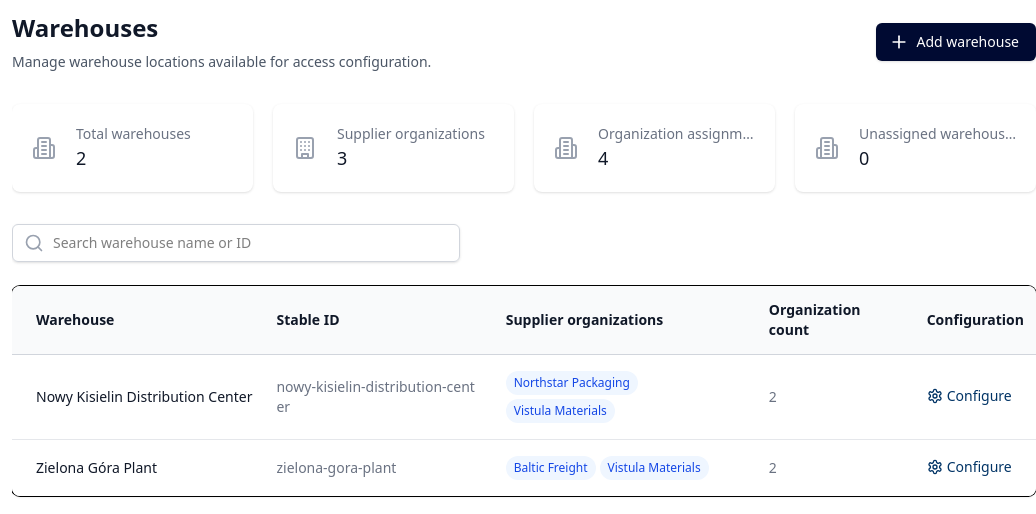
Test: WarehousesPage › 8. searches by display name and removes the nonmatching record;
In the field labelled "Search warehouse name or ID": (236, 243) [12,224,460,262], type "Nowy"
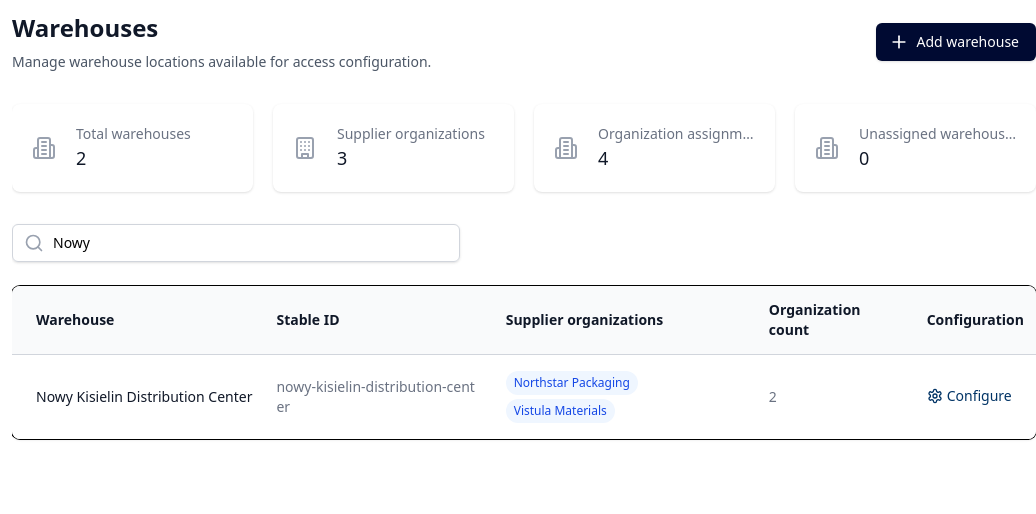
Expected: the text "Nowy Kisielin Distribution Center" is shown 2 times
Expected: the text "Zielona Góra Plant" is gone
